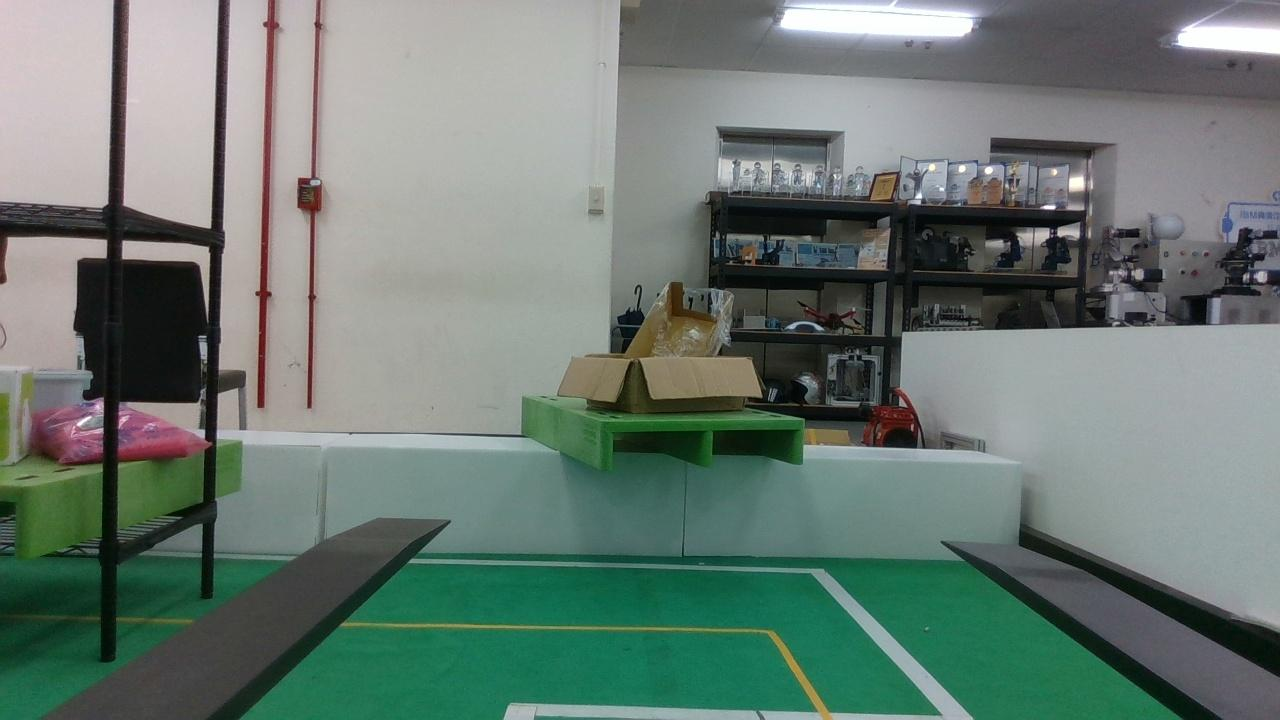Pallet: (594, 413, 809, 476)
